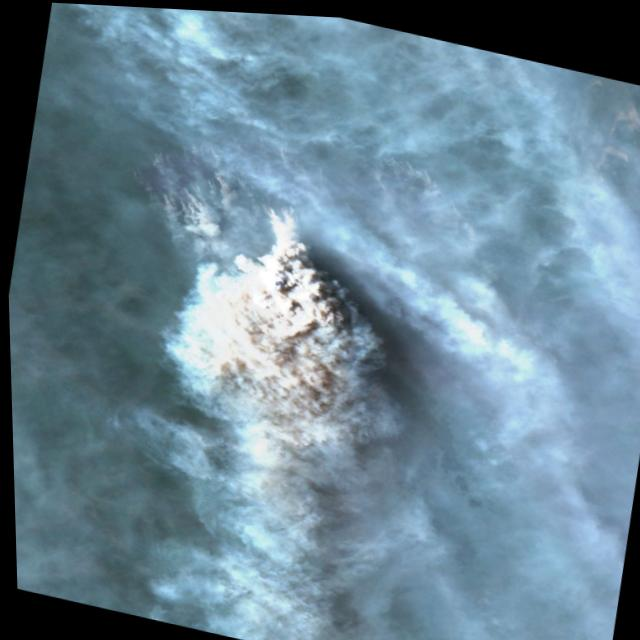fire: (117, 85, 526, 318)
